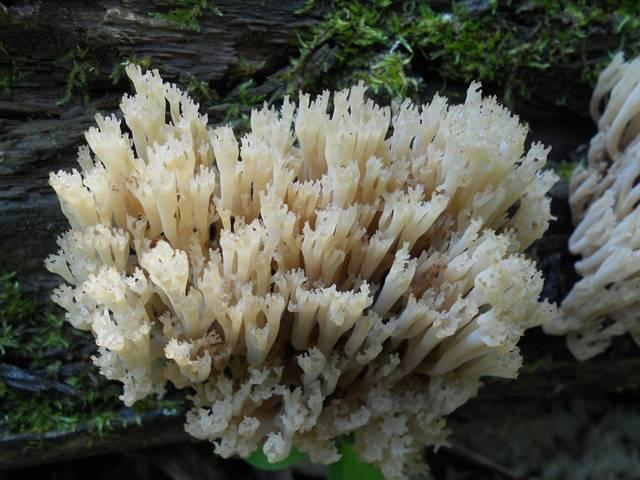edible_mushroom: (44, 61, 561, 477), (540, 48, 639, 362)
